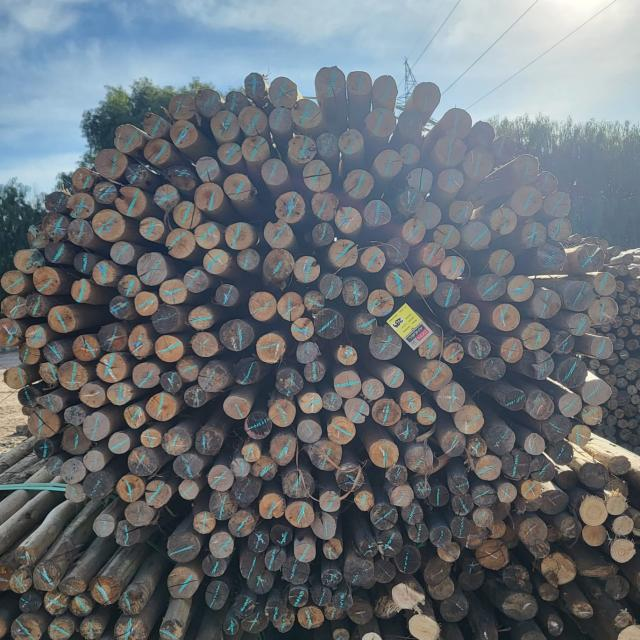package: (1, 64, 616, 638), (283, 438, 640, 640), (0, 546, 264, 640), (576, 233, 640, 364), (592, 348, 640, 466)
